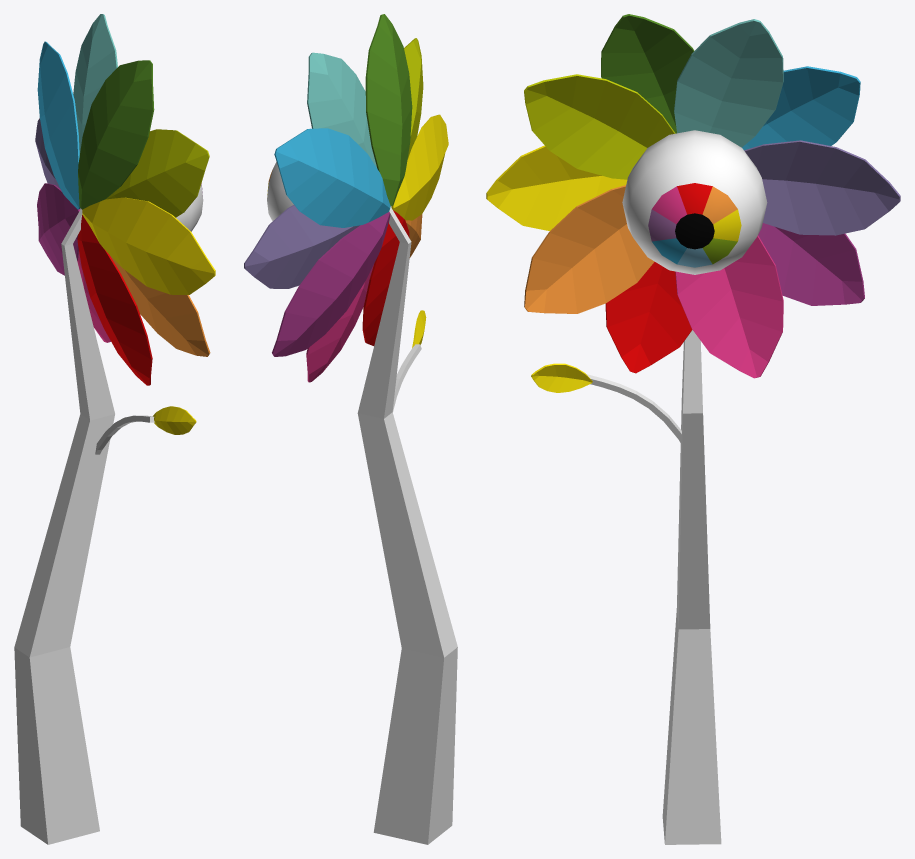
Rendered from SM_Flor_Peq.fbx.
3 renders of one model, left to right at view 1: azimuth 30°, elevation 25°; view 2: azimuth 150°, elevation 25°; view 3: azimuth 270°, elevation 25°, orthographic. The views are drawn at different scales.
Visible parts, largest first — view 1: FLOR_PEQ_PETALOS, FLOR_PEQ_TALLO, FLOR_PEQ_HOJAS; view 2: FLOR_PEQ_PETALOS, FLOR_PEQ_TALLO; view 3: FLOR_PEQ_PETALOS, FLOR_PEQ_TALLO, FLOR_PEQ_HOJAS.
Part boxes in pixels (x1,y1,x2,y2): FLOR_PEQ_PETALOS: (35,14,215,385); FLOR_PEQ_TALLO: (14,209,154,844); FLOR_PEQ_HOJAS: (153,406,196,434); FLOR_PEQ_PETALOS: (244,14,448,382); FLOR_PEQ_TALLO: (357,207,457,844); FLOR_PEQ_PETALOS: (486,14,900,378); FLOR_PEQ_TALLO: (586,330,721,844); FLOR_PEQ_HOJAS: (531,363,592,392).
Bounding box in the file's own units: 87.6 × 370 × 164.
